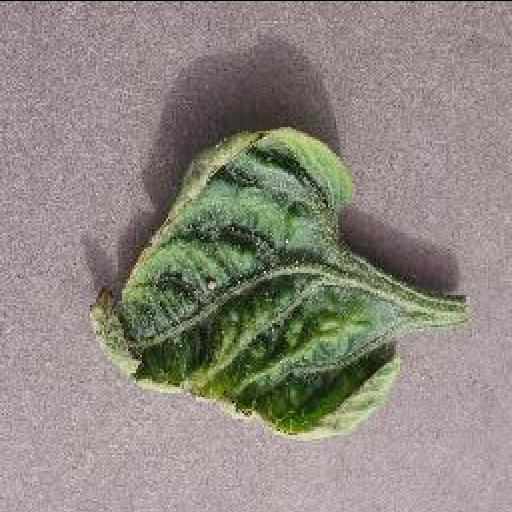disease_tomato: (90, 125, 404, 441)
